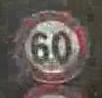limite 60: (12, 9, 91, 85)
